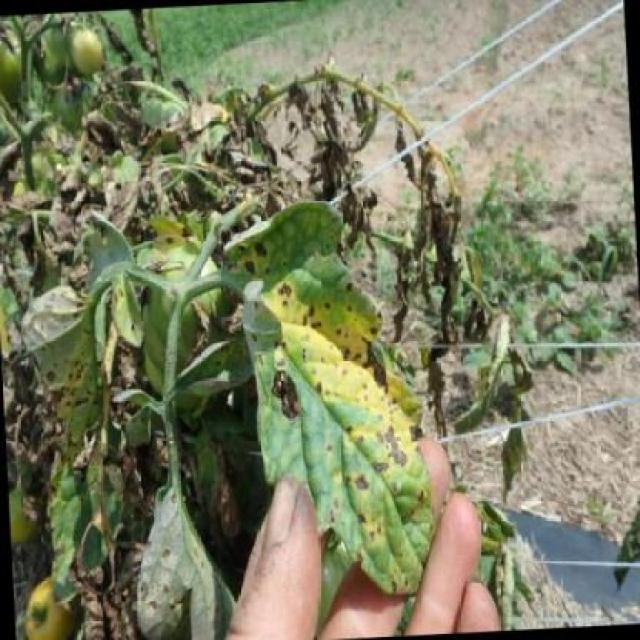Septoria leaf spot: (225, 184, 440, 602), (21, 262, 117, 458), (132, 483, 225, 628)
